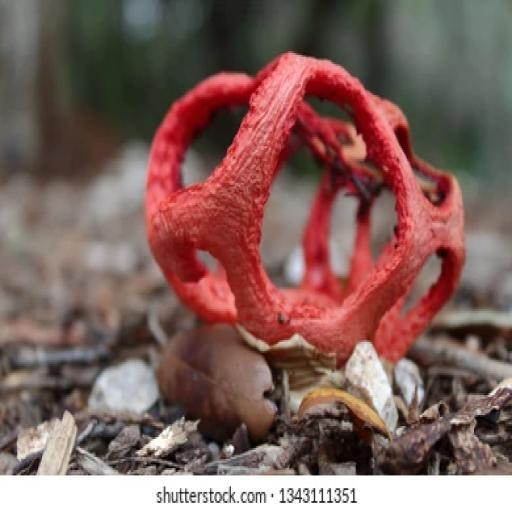mushroom: (145, 55, 465, 448)
